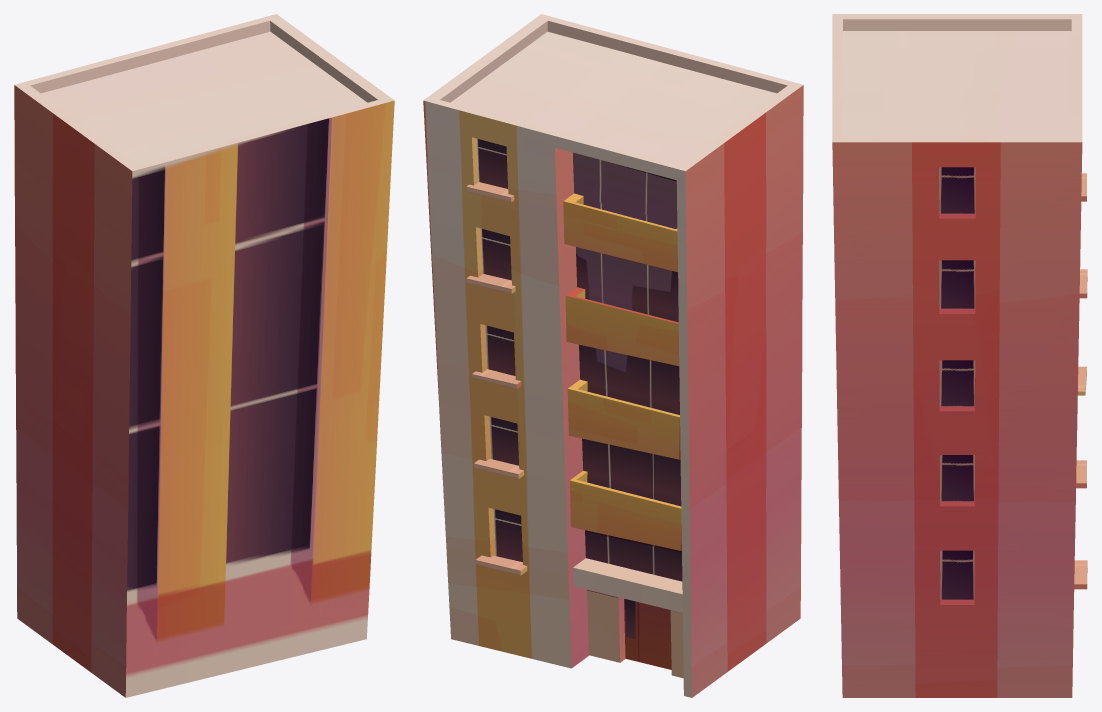
File: Building_00.FBX
3 views of the same model, side by side, from view 1: azimuth 30°, elevation 25°; view 2: azimuth 150°, elevation 25°; view 3: azimuth 270°, elevation 25° (orthographic). The views are drawn at different scales.
Parts seen in each view (by area): view 1: Building_00; view 2: Building_00; view 3: Building_00.
Boxes of the visible parts, x1,y1,x2,y2 form: Building_00: (14, 14, 394, 697); Building_00: (423, 14, 803, 697); Building_00: (832, 14, 1087, 697).
Bounding box in the file's own units: 1243 × 2413 × 983.
